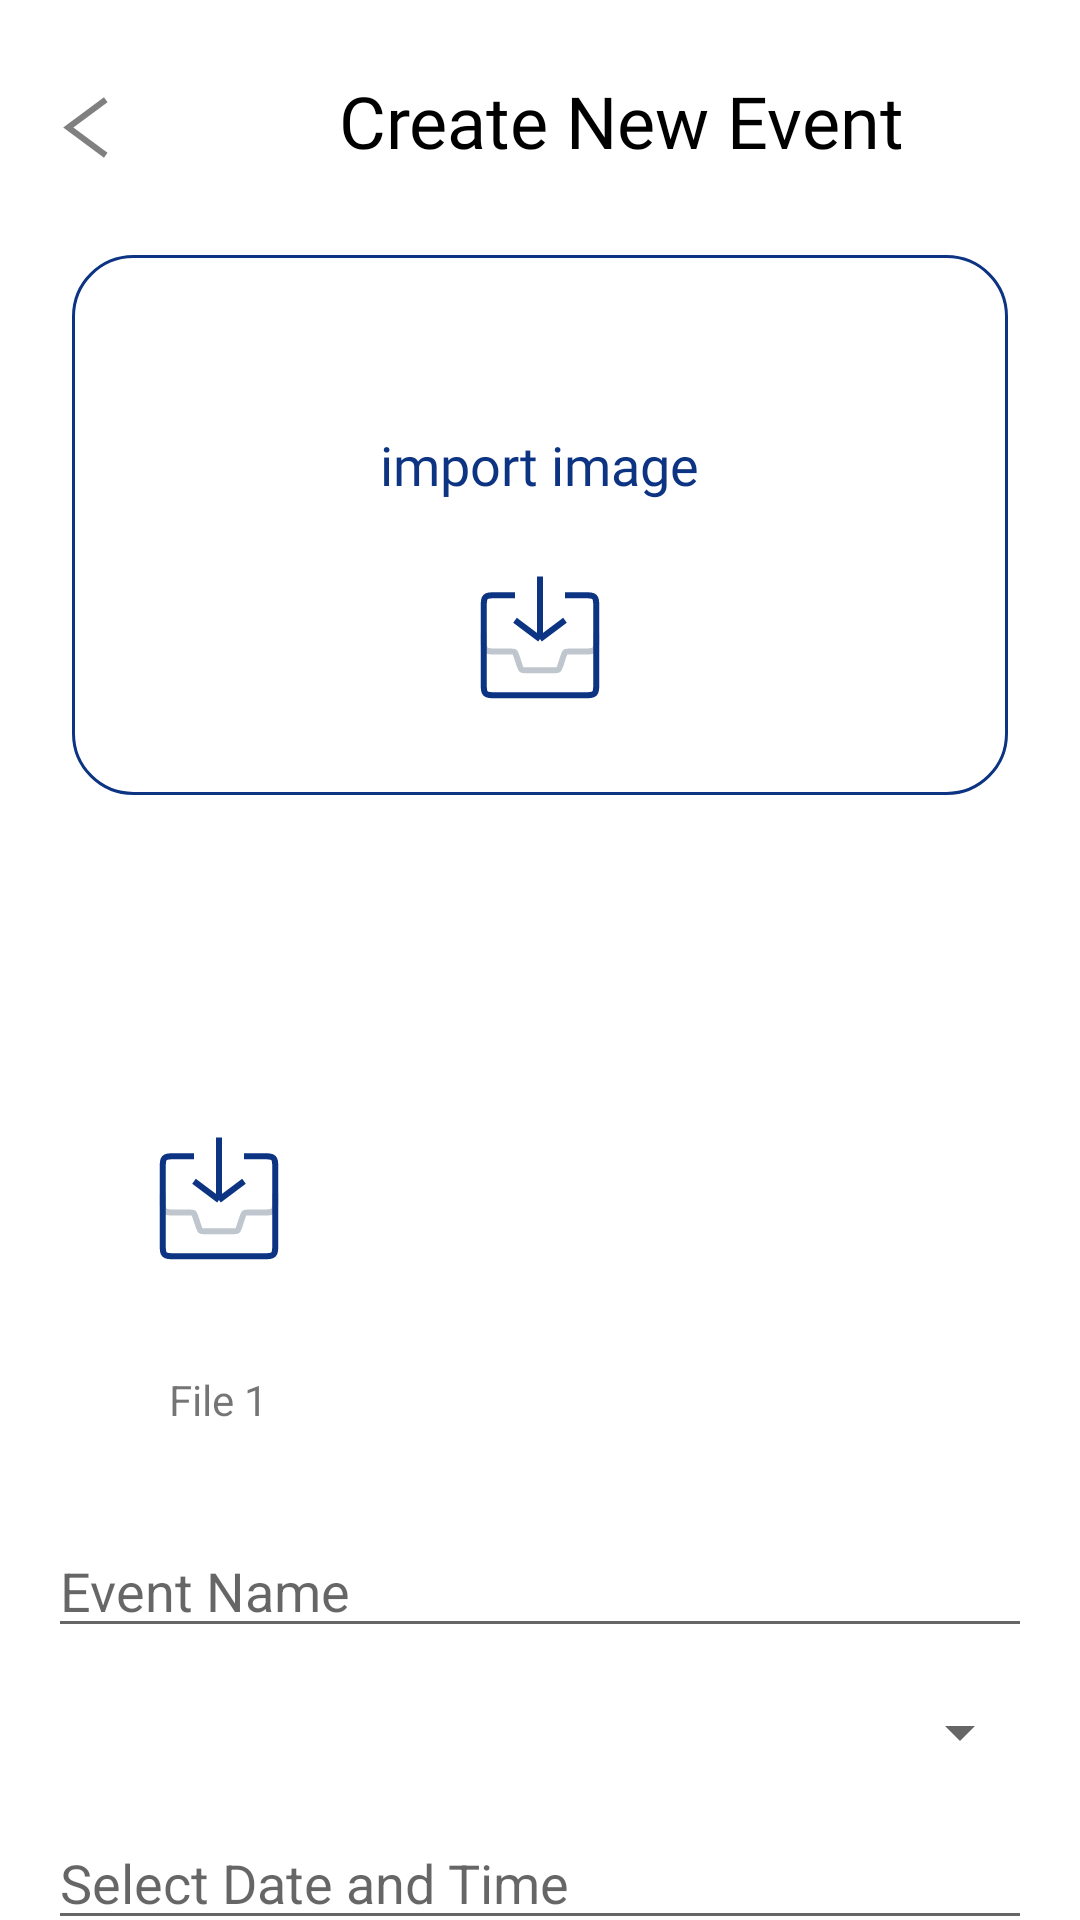

Where icons sit on this 1080×1920 app screen, as rect(x1, y1, x2, y2):
back: rect(63, 97, 108, 158)
download: rect(480, 576, 600, 699), rect(159, 1137, 279, 1260)
